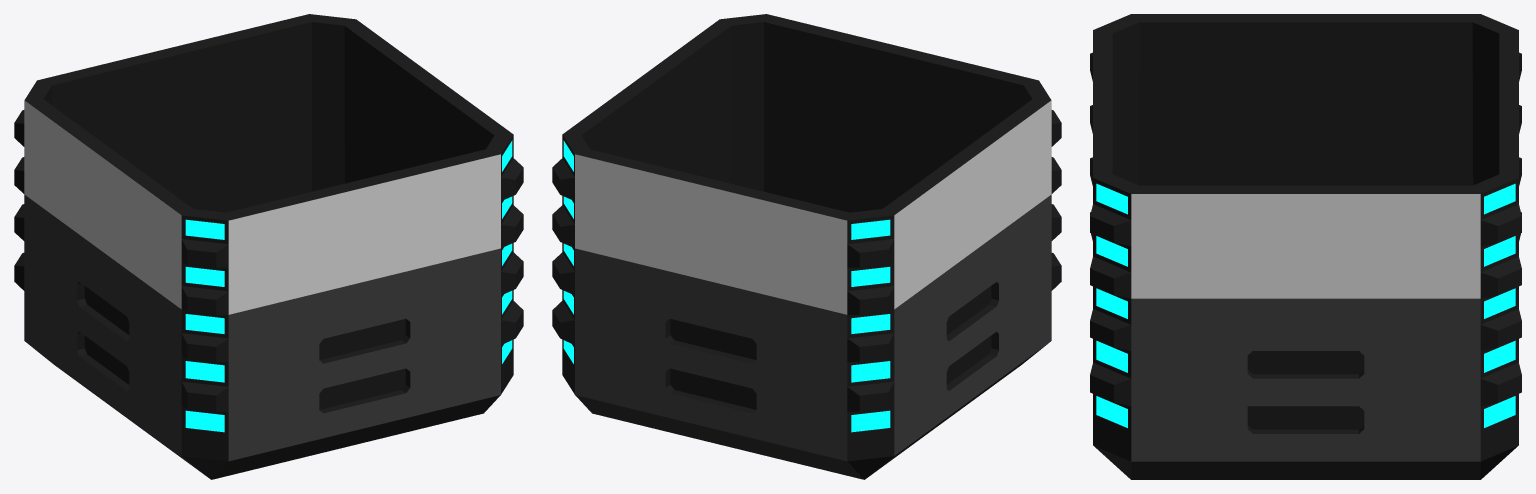
The model's file is Caja.fbx.
3 views of the same model, side by side, from view 1: azimuth 30°, elevation 25°; view 2: azimuth 150°, elevation 25°; view 3: azimuth 270°, elevation 25° (orthographic). The views are drawn at different scales.
Parts seen in each view (by area): view 1: Caja; view 2: Caja; view 3: Caja.
Part boxes in pixels (x1=…): Caja: x1=14, y1=14, x2=523, y2=479; Caja: x1=552, y1=14, x2=1061, y2=479; Caja: x1=1090, y1=14, x2=1521, y2=479.
Size of the model in its own units: 203 by 157 by 203.
